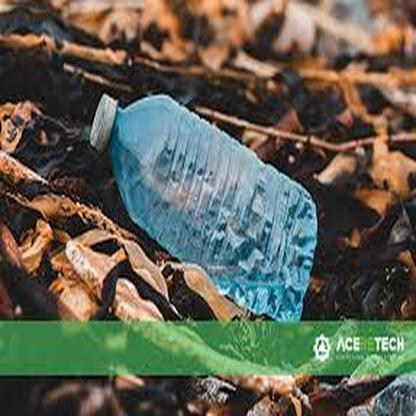plastic bottle: (87, 91, 318, 324)
